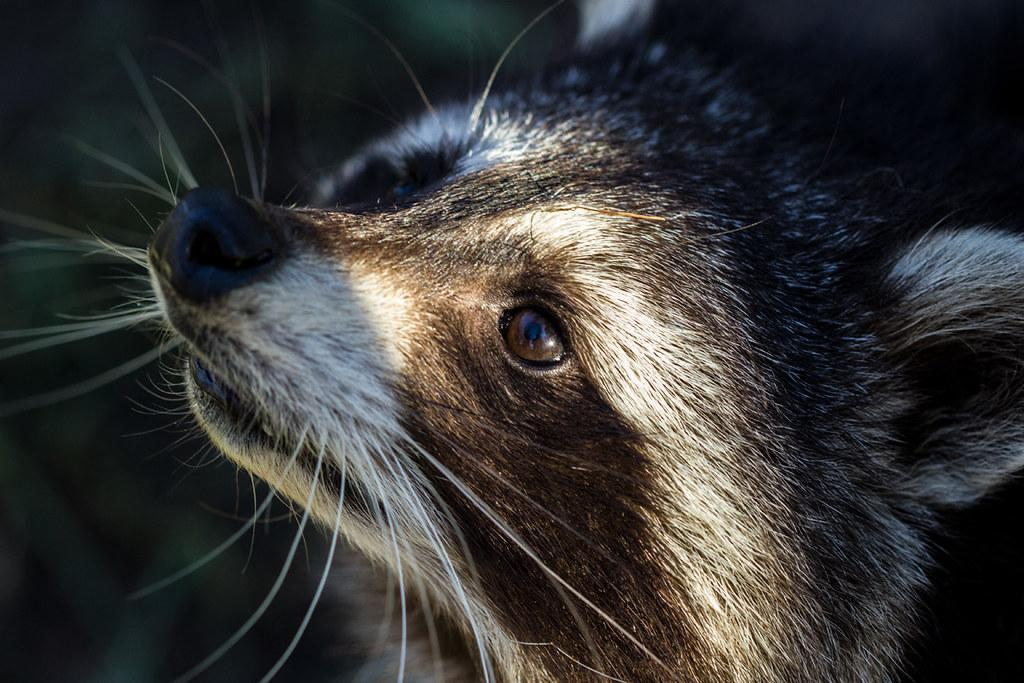raccoon: (146, 2, 1024, 683)
